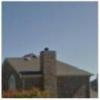chimneys: (40, 48, 58, 90)
